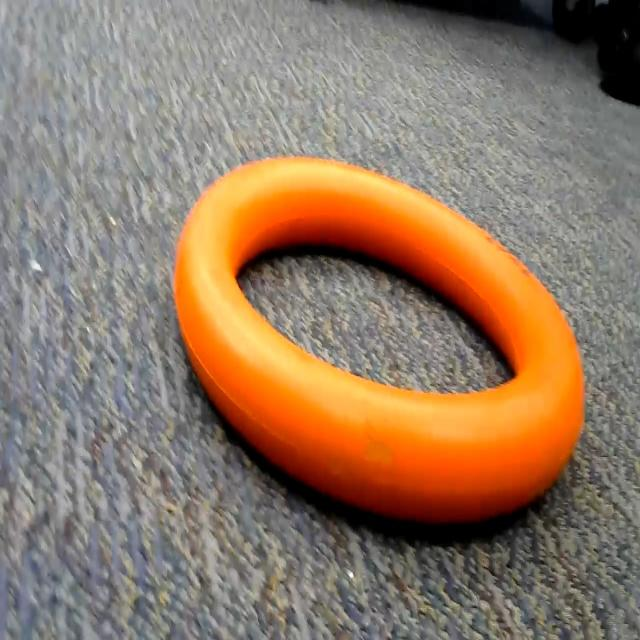note: (173, 152, 595, 547)
